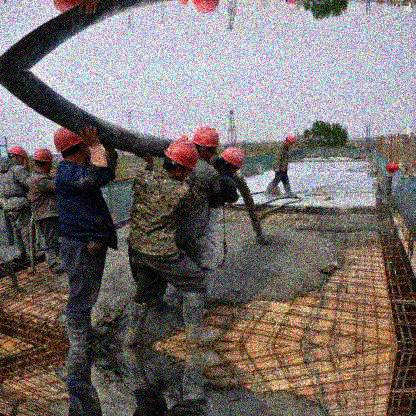helmet: (53, 127, 90, 165), (164, 141, 198, 182), (193, 125, 220, 162), (222, 147, 244, 175), (35, 148, 53, 174), (8, 146, 26, 165), (284, 135, 295, 148)
